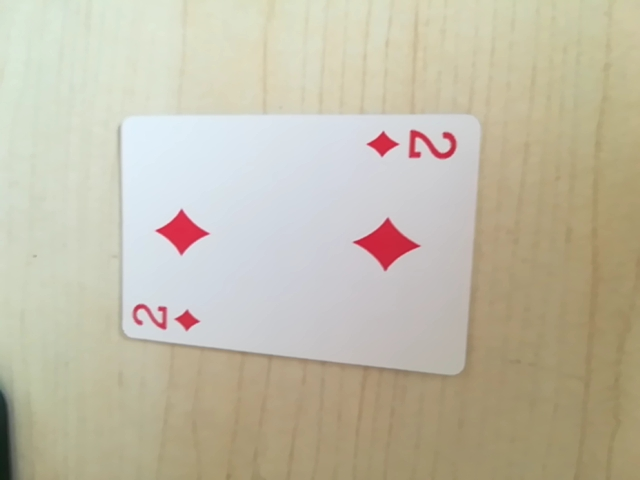fk 2: (363, 123, 463, 168), (129, 296, 209, 337)
